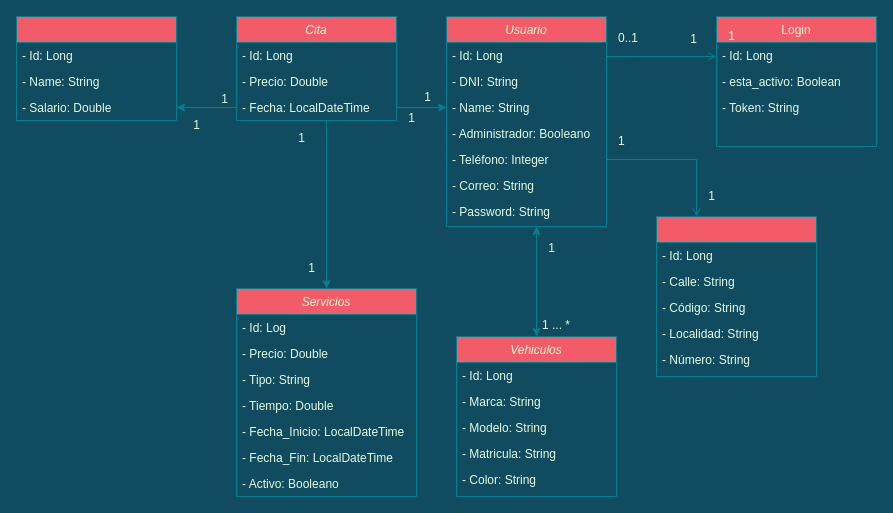
The diagram is 893 pixels wide and 513 high, and some of its shapes have lost their labels. The shapes that lost their labels are listed below. From the top down, each one's box as (x1, y1, x2, y2) in pixels, then its label:
(16, 16, 176, 120): Mecánicos
(656, 216, 816, 376): Dirección
